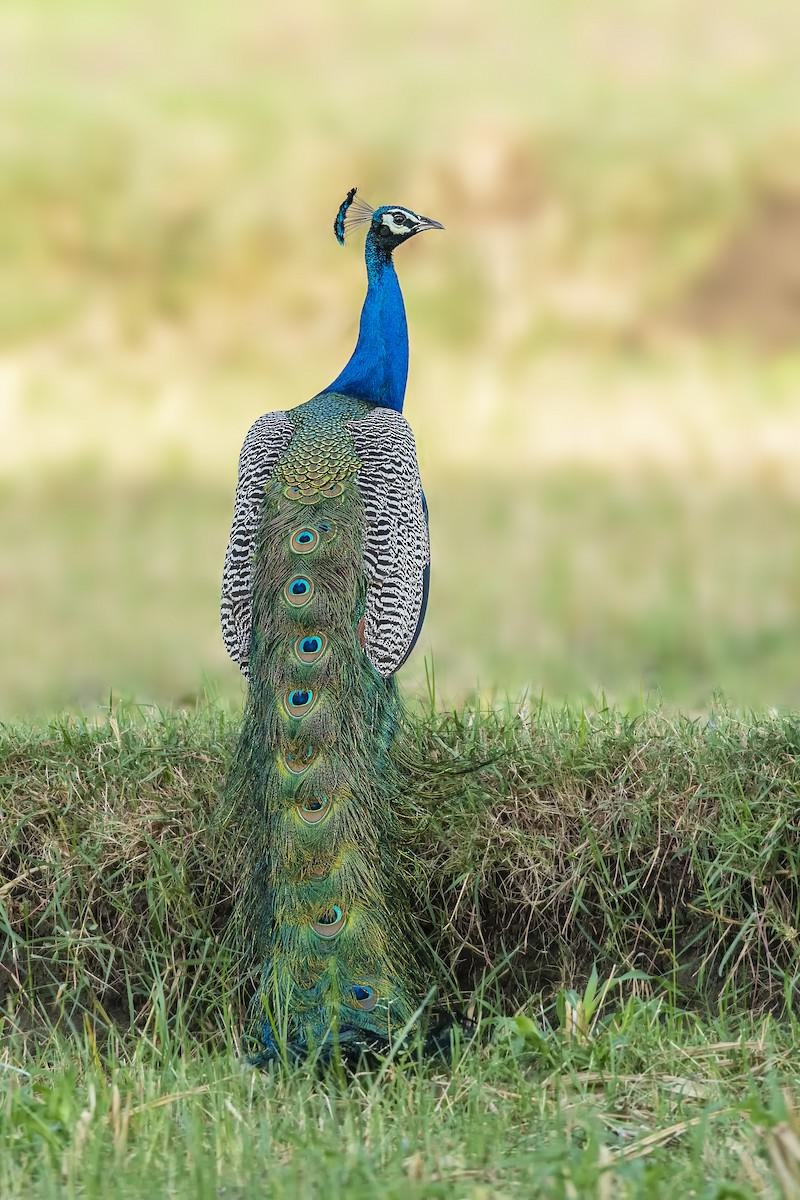peacock: (113, 88, 493, 963)
